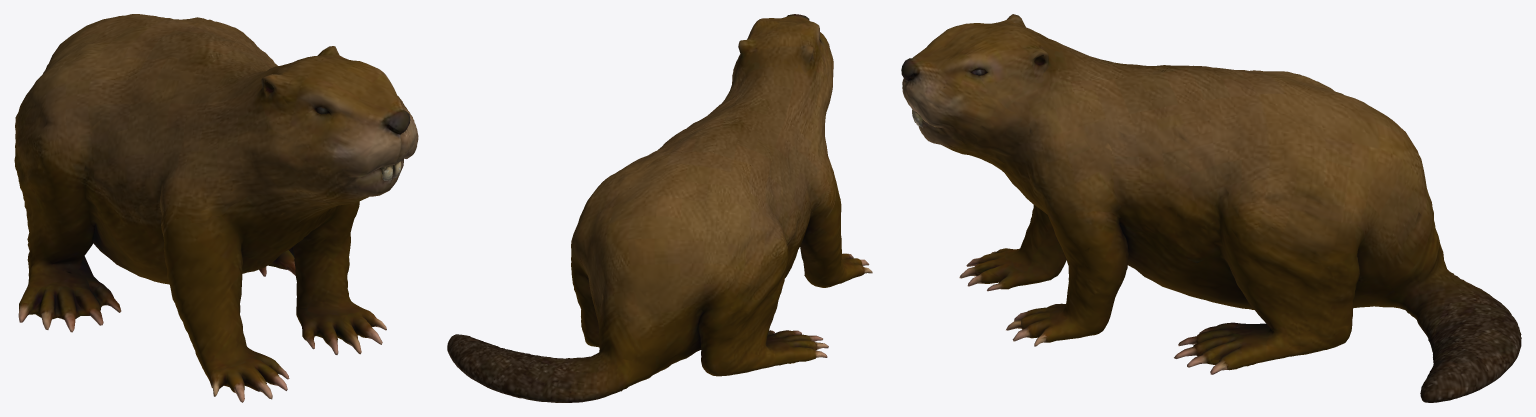
The model's file is MZ4250 - Beaver_2025.glb.
The picture shows the model from 3 angles, left to right: view 1: azimuth 30°, elevation 25°; view 2: azimuth 150°, elevation 25°; view 3: azimuth 270°, elevation 25°; orthographic projection. The views are drawn at different scales.
Visible parts, largest first — view 1: ORGANIC BASE SPHERE.001; view 2: ORGANIC BASE SPHERE.001; view 3: ORGANIC BASE SPHERE.001.
Boxes of the visible parts, bbox=[...] form: ORGANIC BASE SPHERE.001: bbox=[14, 14, 418, 402]; ORGANIC BASE SPHERE.001: bbox=[447, 14, 872, 402]; ORGANIC BASE SPHERE.001: bbox=[901, 14, 1521, 402].
Size of the model in its own units: 89.51 by 67.41 by 132.
Materials: 1 (1 with a texture image).
